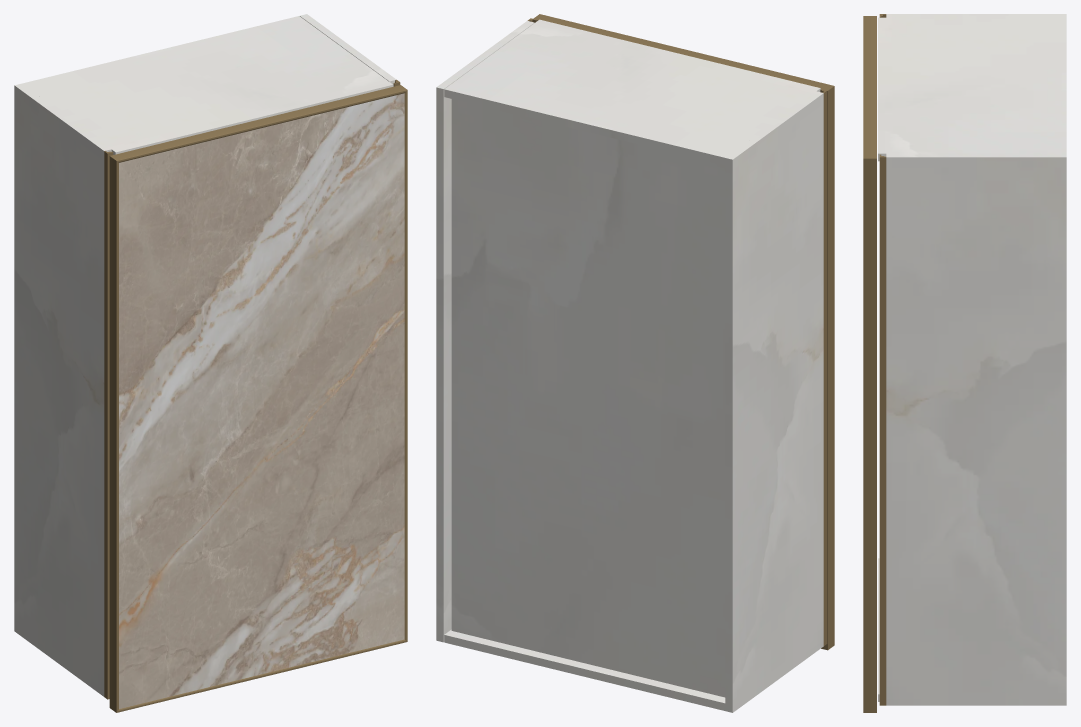
The model's file is WC-SH-NHX-ST-3SG-LHS-XXX-600-1085-336-15.glb.
3 views of the same model, side by side, from view 1: azimuth 30°, elevation 25°; view 2: azimuth 150°, elevation 25°; view 3: azimuth 270°, elevation 25° (orthographic).
Parts seen in each view (by area): view 1: Object_node_10, TP_node_0, TP, Extrusion_node_1, Object_node_12, Extrusion, Extrusion_node, Extrusion_node_0, TP_node_1; view 2: TP_node_2, TP_node_0, TP, TP_node_1, Extrusion_node_1, TP_node, Object_node_12, Extrusion; view 3: TP_node_1, TP, Extrusion_node, Object_node_18, Extrusion, TP_node_0.
Part boxes in pixels (x1,y1,x2,y2): Object_node_10: (119,93,404,708); TP_node_0: (14,83,111,696); TP: (22,16,393,154); Extrusion_node_1: (109,156,118,712); Object_node_12: (104,151,113,699); Extrusion: (110,85,407,162); Extrusion_node: (404,90,407,641); Extrusion_node_0: (117,639,406,712); TP_node_1: (300,14,396,86); TP_node_2: (451,99,725,697); TP_node_0: (725,91,823,712); TP: (444,19,820,165); TP_node_1: (436,21,534,642); Extrusion_node_1: (825,86,834,649); TP_node: (444,629,725,710); Object_node_12: (820,89,827,645); Extrusion: (533,14,833,90); TP_node_1: (886,153,1066,705); TP: (878,17,1066,161); Extrusion_node: (863,158,876,712); Object_node_18: (879,154,886,705); Extrusion: (863,16,876,158); TP_node_0: (886,14,1066,17).
Size of what is drawn, in the model's own units: 0.6 by 1.09 by 0.3602.
Materials: 6 (2 with a texture image).
